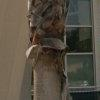Statue: (14, 6, 69, 84)
